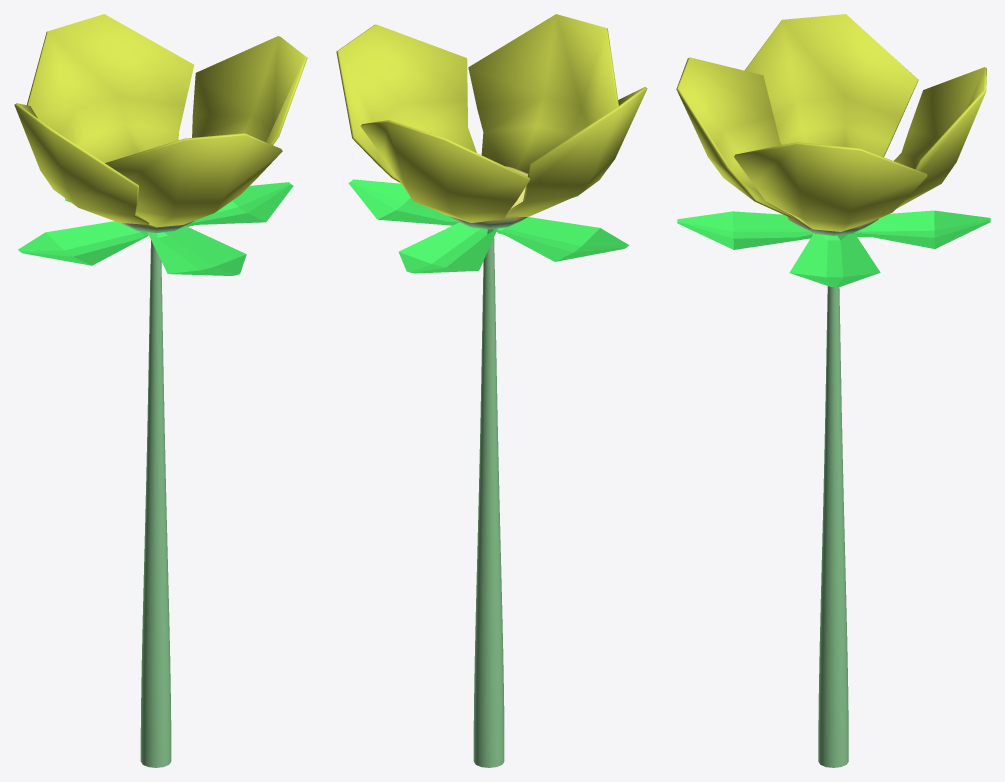
File: Flower-2.fbx
3 renders of one model, left to right at view 1: azimuth 30°, elevation 25°; view 2: azimuth 150°, elevation 25°; view 3: azimuth 270°, elevation 25°, orthographic.
Visible parts, largest first — view 1: Plane.005, Plane.026, Plane.029; view 2: Plane.005, Plane.026, Plane.029; view 3: Plane.005, Plane.026, Plane.029.
Boxes of the visible parts, x1,y1,x2,y2 form: Plane.005: (14,14,307,227); Plane.026: (121,221,193,767); Plane.029: (18,182,293,275); Plane.005: (336,14,647,222); Plane.026: (449,166,528,767); Plane.029: (348,179,628,273); Plane.005: (676,14,986,231); Plane.026: (787,213,878,767); Plane.029: (677,210,990,287).
Size of the model in its own units: 2.13 by 2.14 by 5.11.
